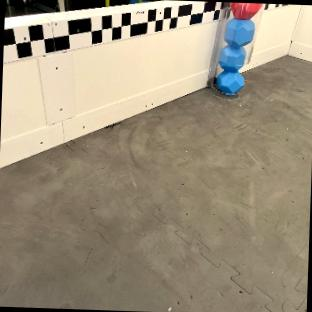V5_BLUE: (217, 18, 254, 93), (217, 69, 244, 94)
V5_RED: (231, 3, 261, 18)
